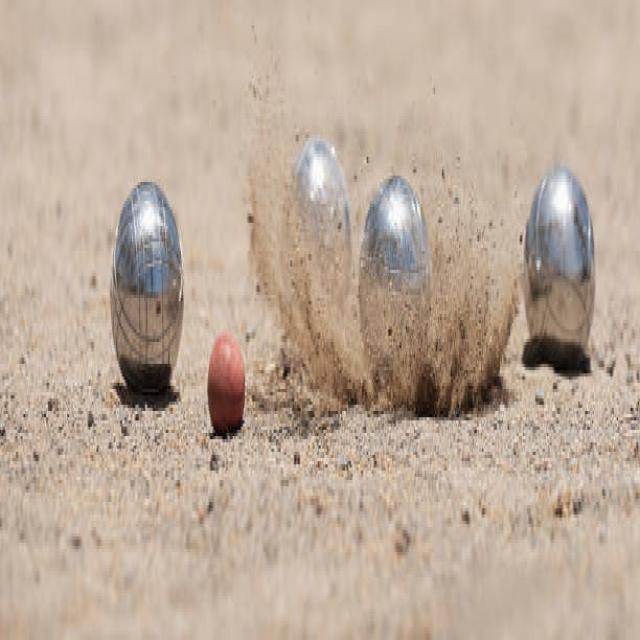hatball: (201, 331, 253, 447)
petanque: (97, 169, 190, 450), (515, 149, 601, 374), (282, 120, 360, 344), (359, 165, 440, 367)
